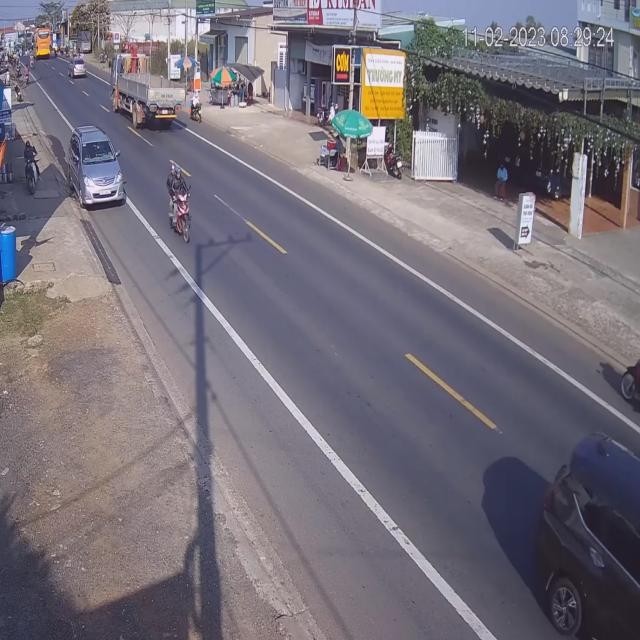bus: (34, 32, 50, 62)
car: (533, 414, 639, 640), (68, 125, 124, 208), (70, 58, 87, 79)
motorbike: (618, 333, 640, 431), (170, 161, 195, 243), (190, 94, 201, 122)
truck: (112, 48, 182, 126)
